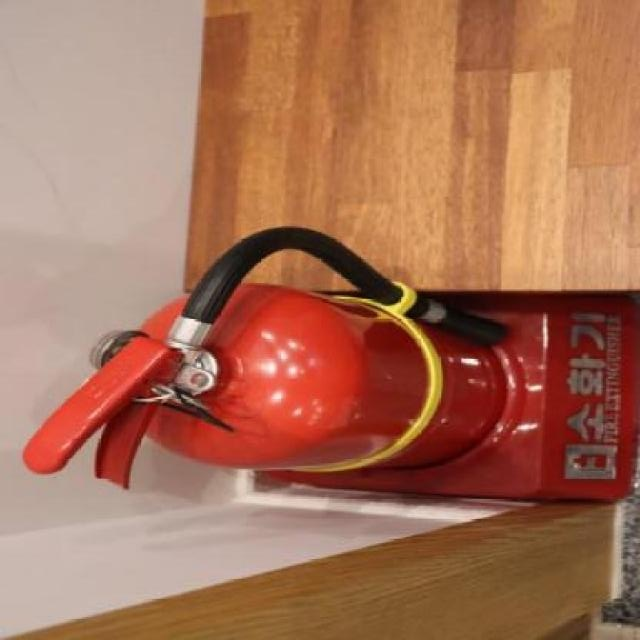fire extinguisher: (22, 226, 509, 489)
